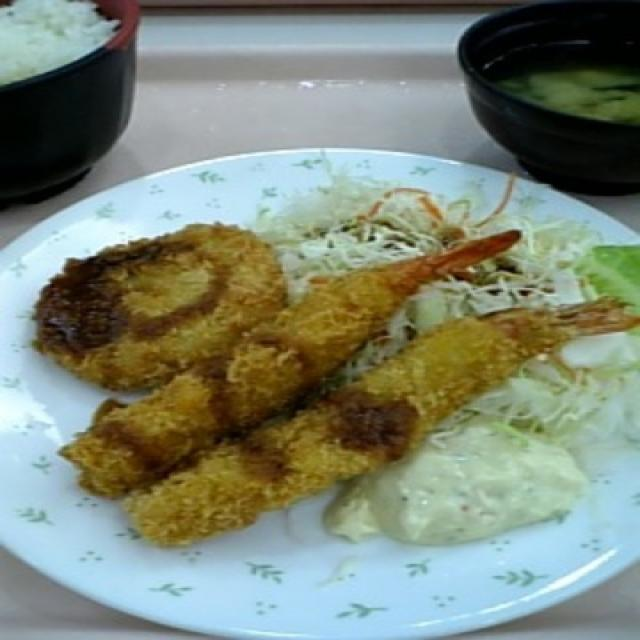Rice: (0, 0, 95, 65)
